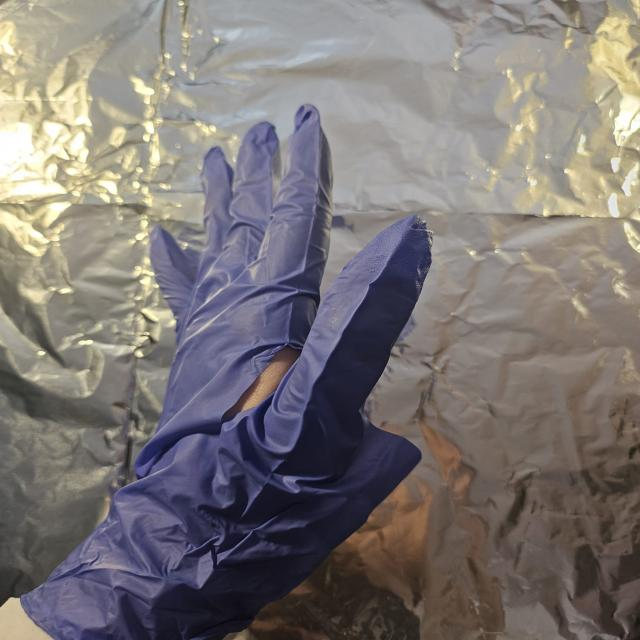gloves_damaged: (17, 101, 437, 640)
